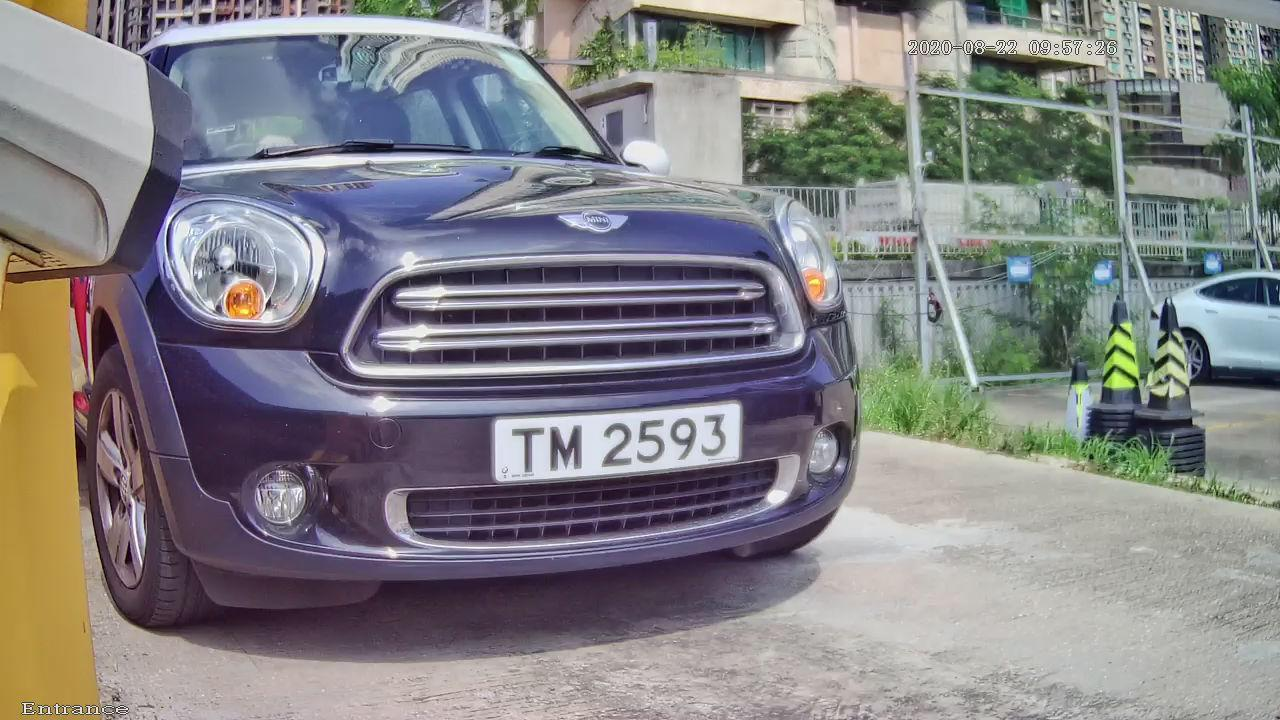Car: (29, 10, 932, 659)
License Plate: (439, 366, 788, 513)
